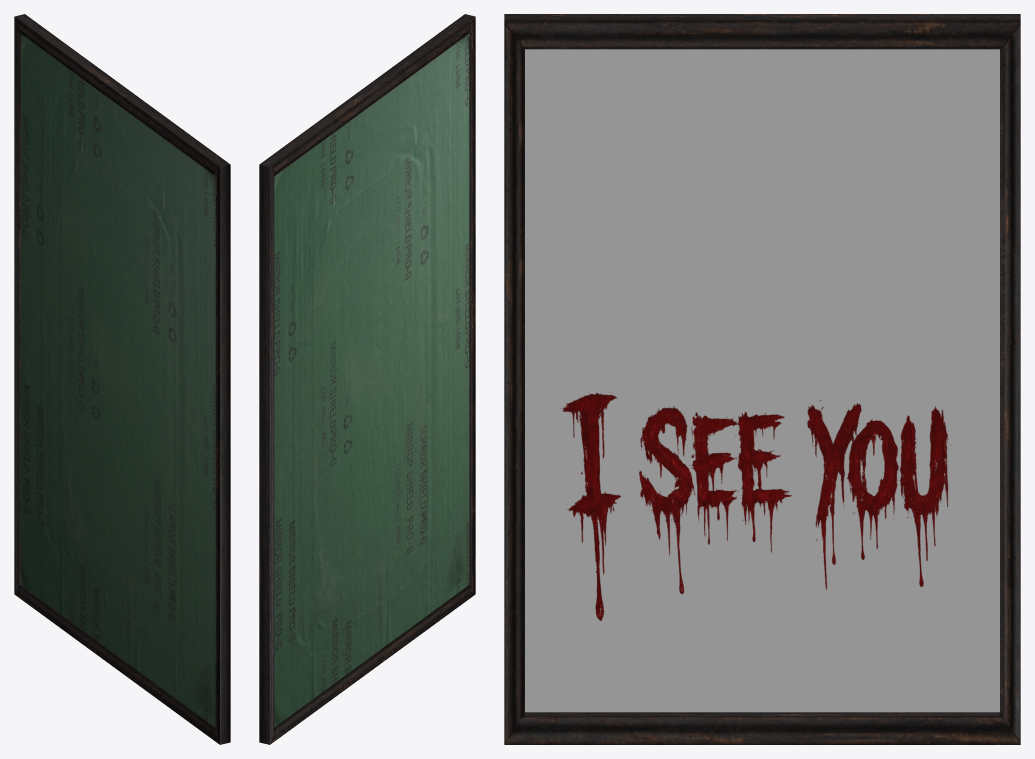
Rendered from espejos.glb.
3 views of the same model, side by side, from view 1: azimuth 30°, elevation 25°; view 2: azimuth 150°, elevation 25°; view 3: azimuth 270°, elevation 25° (orthographic). The views are drawn at different scales.
Parts seen in each view (by area): view 1: Mirror_Roughness_0; view 2: Mirror_Roughness_0; view 3: Mirror_Roughness_0.
Boxes of the visible parts, x1,y1,x2,y2 form: Mirror_Roughness_0: (14,14,230,744); Mirror_Roughness_0: (259,14,475,744); Mirror_Roughness_0: (504,14,1020,744).
Bounding box in the file's own units: 0.0222 × 1.15 × 0.7447.
3 materials, 2 textured.
